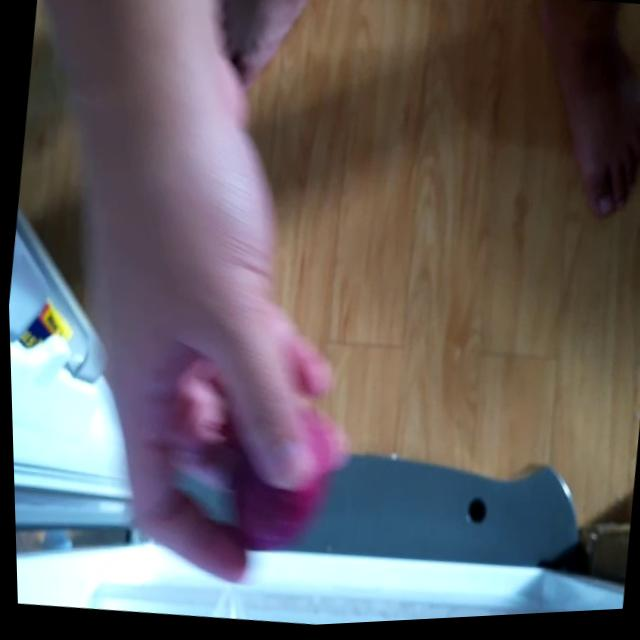onion: (228, 396, 337, 549)
